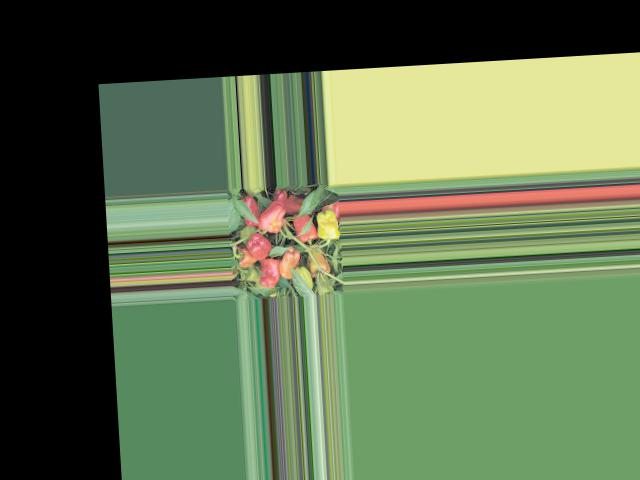bell_pepper: (236, 252, 255, 268)
